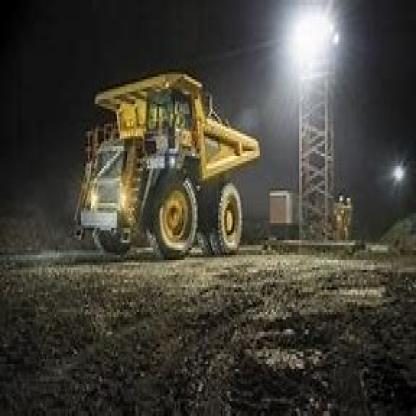dump_truck: (59, 55, 263, 268)
